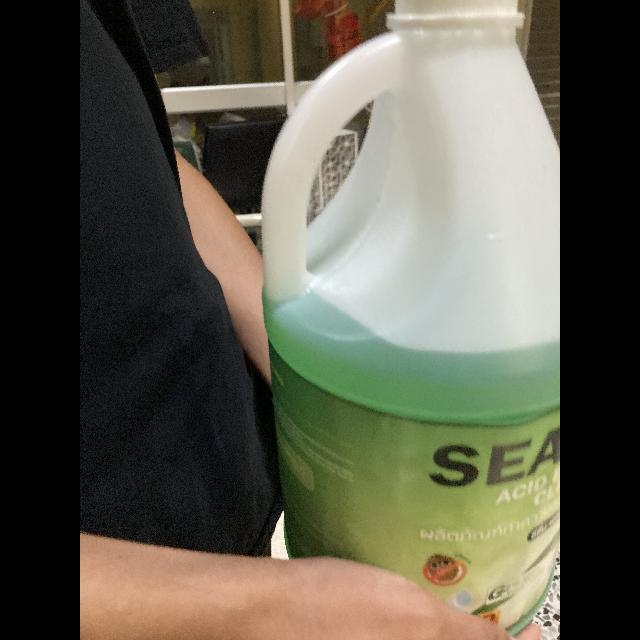chemical_plastic_gallon: (262, 1, 560, 634)
